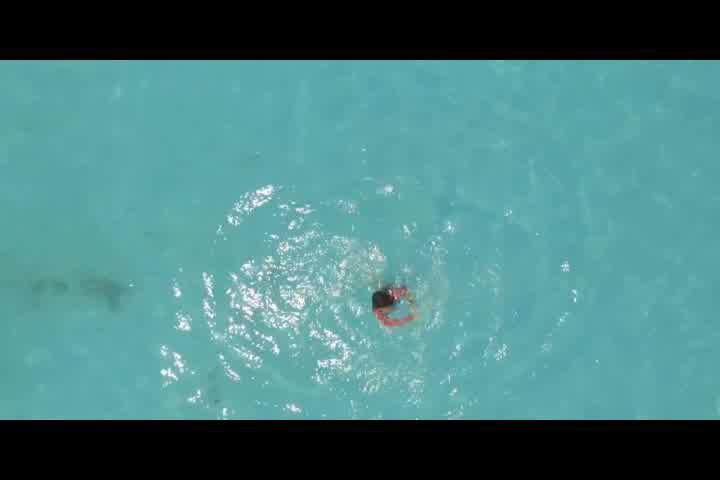swimmer: (369, 284, 418, 330)
